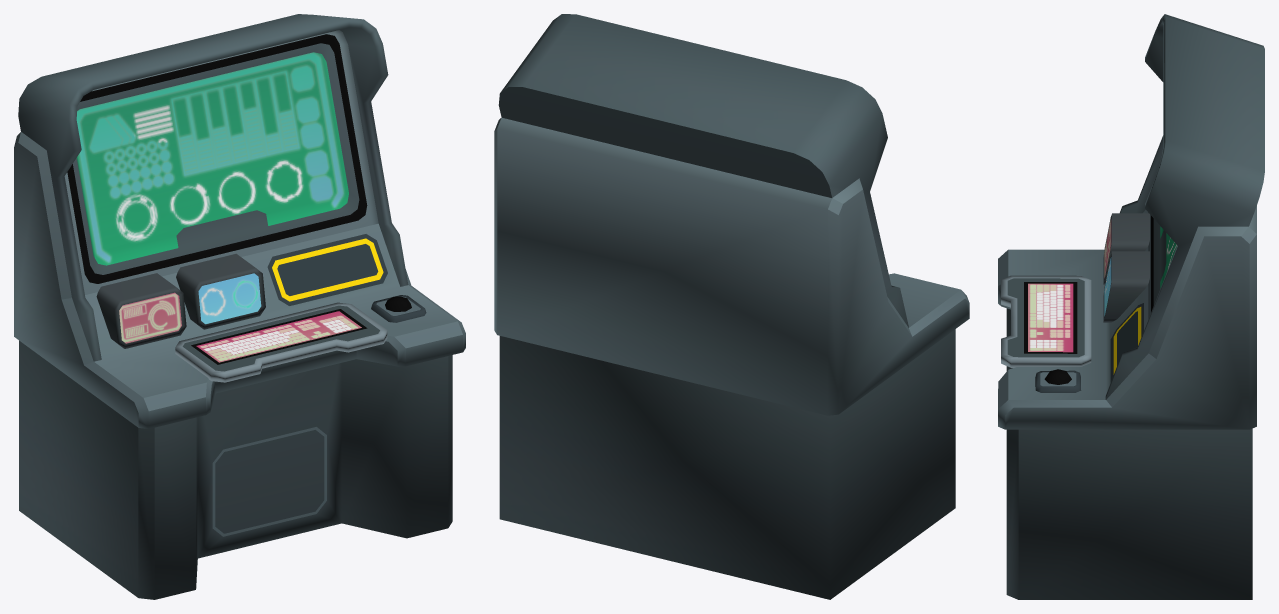
Rendered from Terminal_015.fbx.
The picture shows the model from 3 angles, left to right: view 1: azimuth 30°, elevation 25°; view 2: azimuth 150°, elevation 25°; view 3: azimuth 270°, elevation 25°; orthographic projection. The views are drawn at different scales.
Visible parts, largest first — view 1: Terminal_015; view 2: Terminal_015; view 3: Terminal_015.
Boxes of the visible parts, x1,y1,x2,y2 form: Terminal_015: (14, 14, 465, 599); Terminal_015: (494, 14, 969, 599); Terminal_015: (998, 14, 1264, 599).
Size of the model in its own units: 126 by 90.72 by 167.
